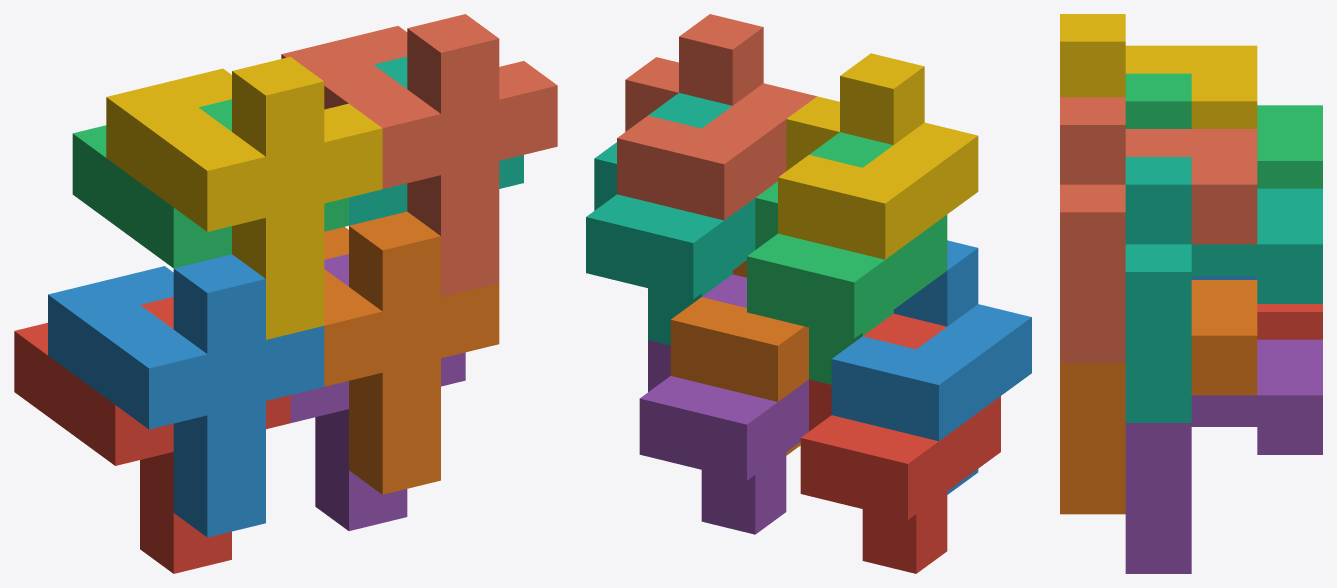
File: tiling.obj
3 views of the same model, side by side, from view 1: azimuth 30°, elevation 25°; view 2: azimuth 150°, elevation 25°; view 3: azimuth 270°, elevation 25° (orthographic). The views are drawn at different scales.
Parts seen in each view (by area): view 1: copy_1_domain_2, copy_1_domain_4, copy_1_domain_8, copy_1_domain_6, copy_1_domain_1, copy_1_domain_3, copy_1_domain_5, copy_1_domain_7; view 2: copy_1_domain_4, copy_1_domain_8, copy_1_domain_1, copy_1_domain_2, copy_1_domain_5, copy_1_domain_3, copy_1_domain_7, copy_1_domain_6; view 3: copy_1_domain_7, copy_1_domain_8, copy_1_domain_5, copy_1_domain_6, copy_1_domain_4, copy_1_domain_3, copy_1_domain_1.
Boxes of the visible parts, x1,y1,x2,y2 form: copy_1_domain_2: (48, 254, 324, 537); copy_1_domain_4: (106, 56, 382, 339); copy_1_domain_8: (281, 14, 557, 297); copy_1_domain_6: (324, 211, 499, 494); copy_1_domain_1: (14, 297, 290, 573); copy_1_domain_3: (72, 99, 348, 268); copy_1_domain_5: (290, 254, 465, 530); copy_1_domain_7: (349, 56, 523, 225); copy_1_domain_4: (778, 53, 978, 259); copy_1_domain_8: (617, 14, 816, 220); copy_1_domain_1: (800, 313, 1000, 573); copy_1_domain_2: (831, 240, 1031, 494); copy_1_domain_5: (639, 274, 808, 534); copy_1_domain_3: (747, 132, 947, 384); copy_1_domain_7: (586, 93, 755, 345); copy_1_domain_6: (670, 260, 808, 455); copy_1_domain_7: (1125, 157, 1322, 422); copy_1_domain_8: (1060, 97, 1257, 363); copy_1_domain_5: (1125, 339, 1322, 573); copy_1_domain_6: (1060, 280, 1257, 514); copy_1_domain_4: (1060, 14, 1257, 128); copy_1_domain_3: (1125, 73, 1322, 188); copy_1_domain_1: (1257, 304, 1322, 339).
Bounding box in the file's own units: 7 × 8 × 4.
